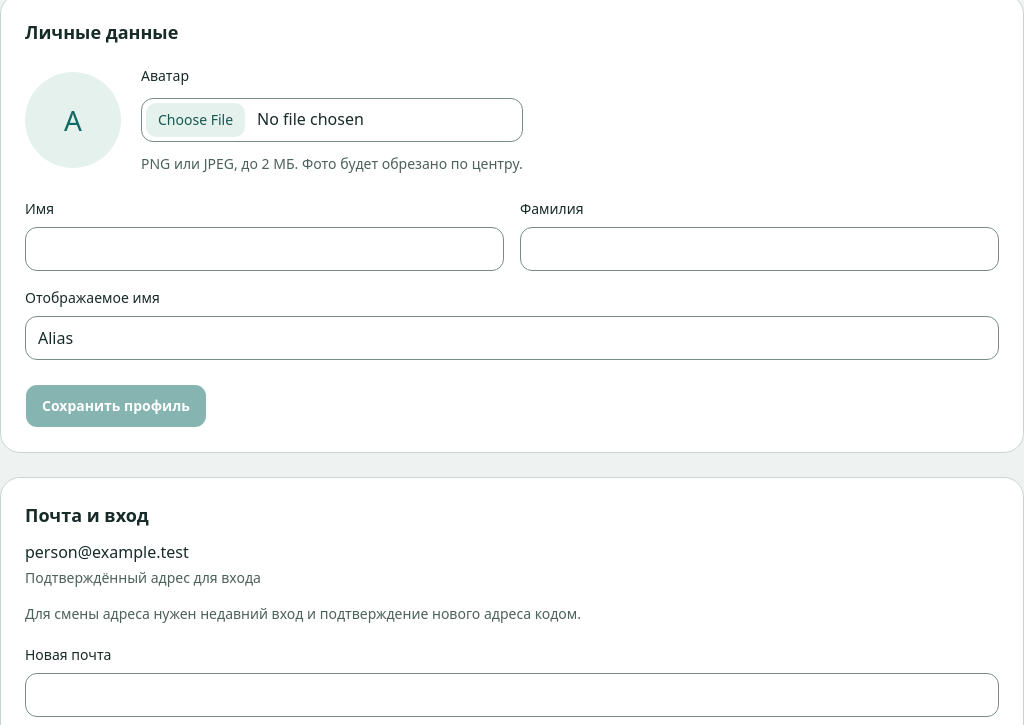
personal profile › SPEC-0036: shows e-mail errors in the e-mail card
In the field labelled "Новая почта": (512, 695) [25, 673, 999, 717], type "new@example.test"
(page scrolled)
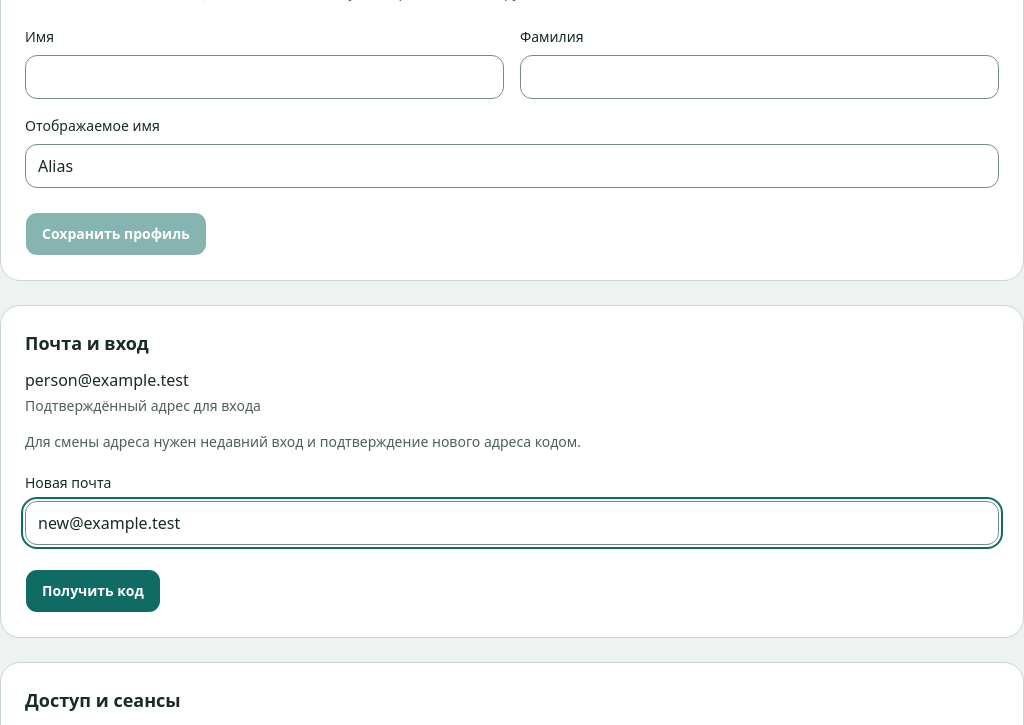
Click the button "Получить код": (93, 591) [25, 569, 161, 613]
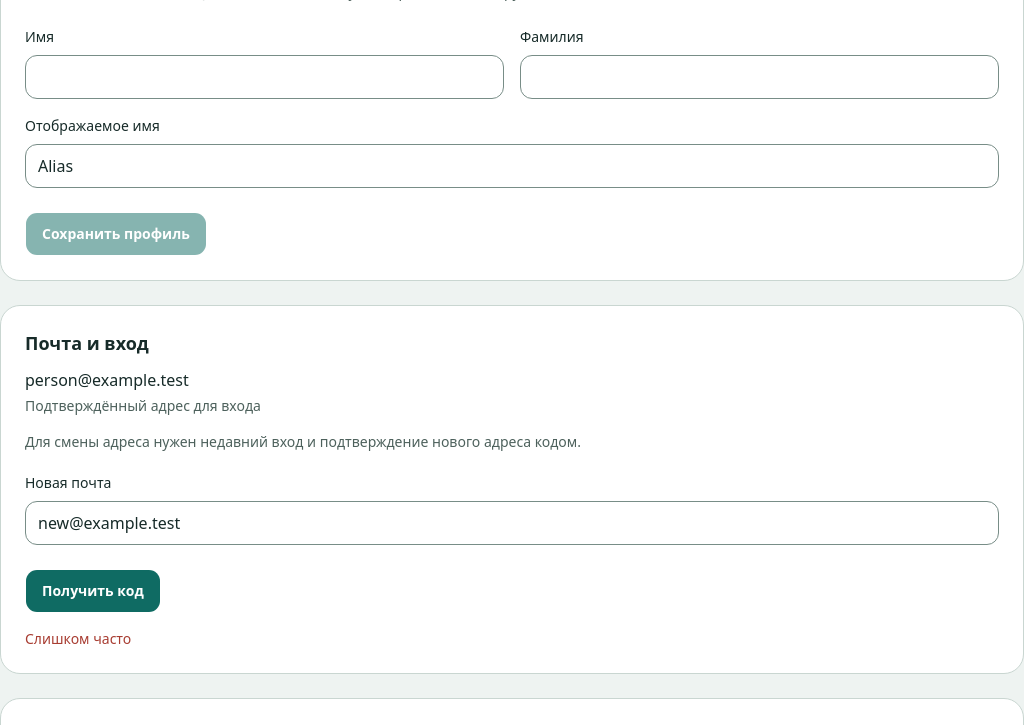
Expected: the element that starts with "Почта и вход" is shown, [25, 331, 149, 355]
Expected: the message reads "Слишком часто", [25, 629, 131, 648]
